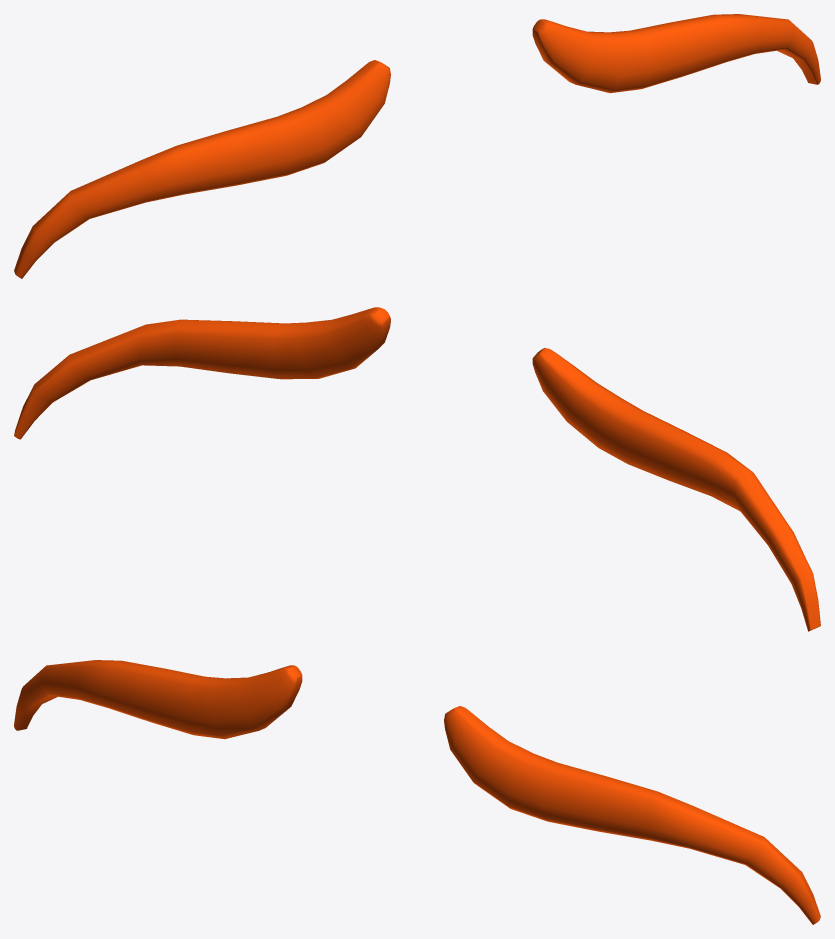
Rendered from Eyebrows_21_06.fbx.
3 views of the same model, one above another, from view 1: azimuth 30°, elevation 25°; view 2: azimuth 150°, elevation 25°; view 3: azimuth 330°, elevation 25° (orthographic).
Parts seen in each view (by area): view 1: Eyebrows_21_06; view 2: Eyebrows_21_06; view 3: Eyebrows_21_06.
Boxes of the visible parts, x1,y1,x2,y2 form: Eyebrows_21_06: [14, 14, 820, 278]; Eyebrows_21_06: [14, 307, 820, 631]; Eyebrows_21_06: [14, 660, 820, 924].
Bounding box in the file's own units: 18.62 × 3.81 × 2.44.
